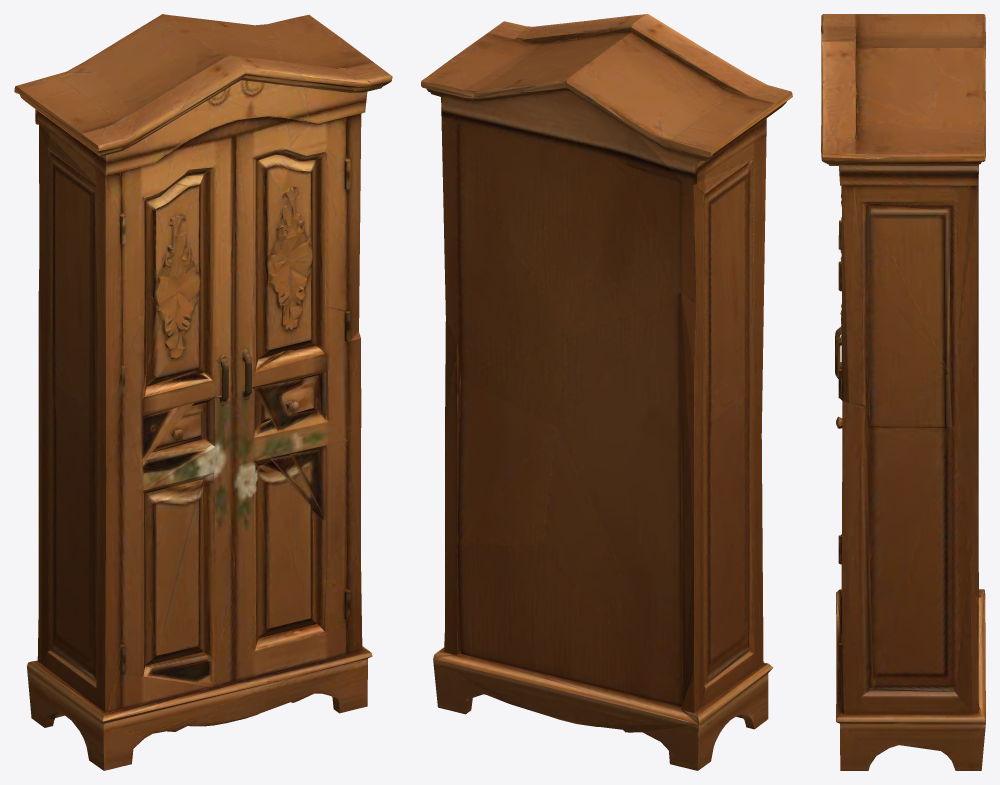
The model's file is wardrobe.glb.
The picture shows the model from 3 angles, left to right: view 1: azimuth 30°, elevation 25°; view 2: azimuth 150°, elevation 25°; view 3: azimuth 270°, elevation 25°; orthographic projection.
Size of the model in its own units: 0.8676 by 1.9 by 0.426.
Materials: 1 (1 with a texture image).
